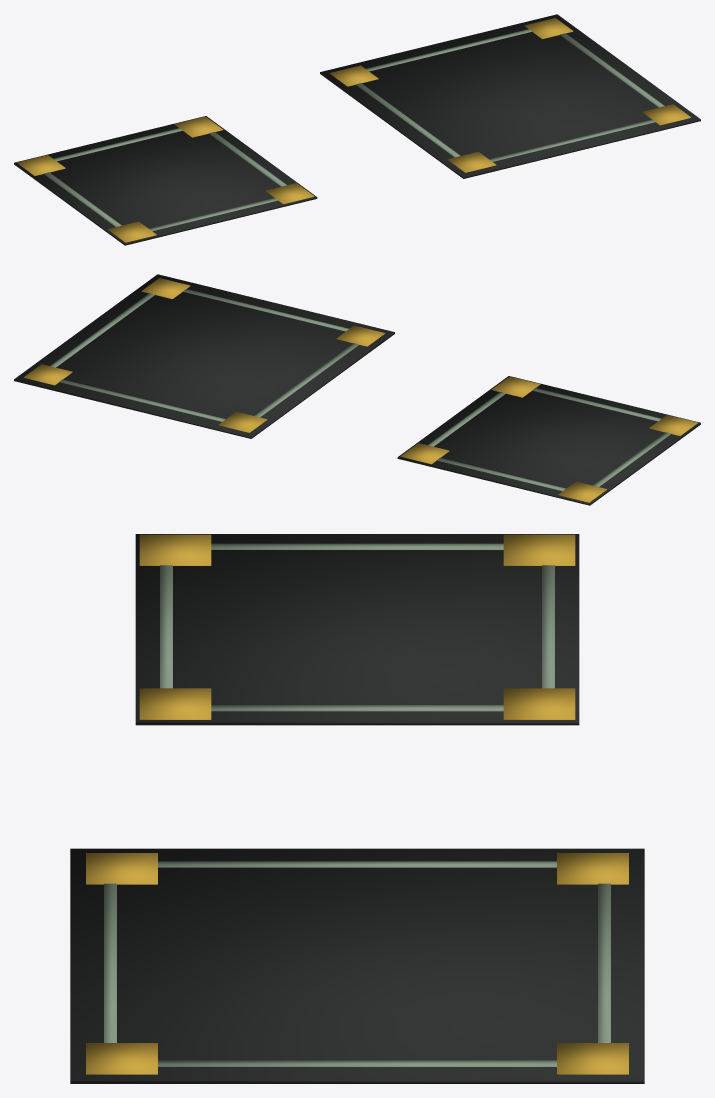
Rendered from shed_parks.glb.
3 views of the same model, one above another, from view 1: azimuth 30°, elevation 25°; view 2: azimuth 150°, elevation 25°; view 3: azimuth 270°, elevation 25° (orthographic). The views are drawn at different scales.
Parts seen in each view (by area): view 1: MESH_ParkPads; view 2: MESH_ParkPads; view 3: MESH_ParkPads.
Part boxes in pixels (x1,y1,x2,y2): MESH_ParkPads: [14, 14, 700, 245]; MESH_ParkPads: [14, 274, 700, 505]; MESH_ParkPads: [70, 534, 644, 1083].
Bounding box in the file's own units: 1.98 × 0.008 × 0.88.
